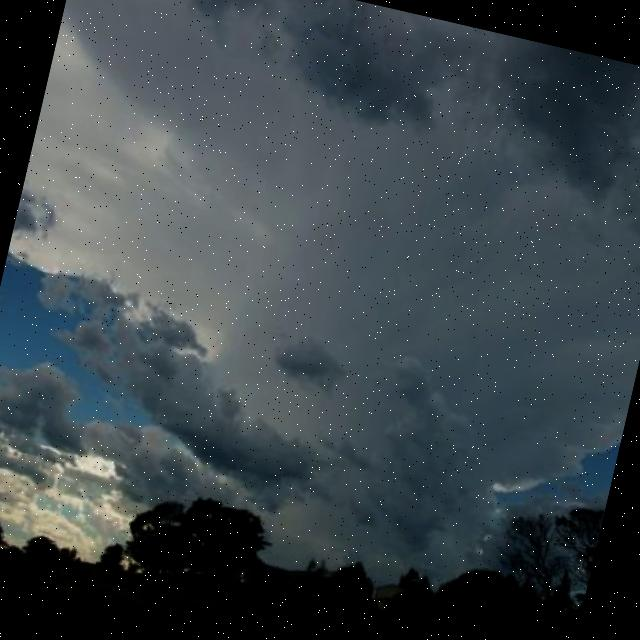Cb: (1, 1, 640, 545)
